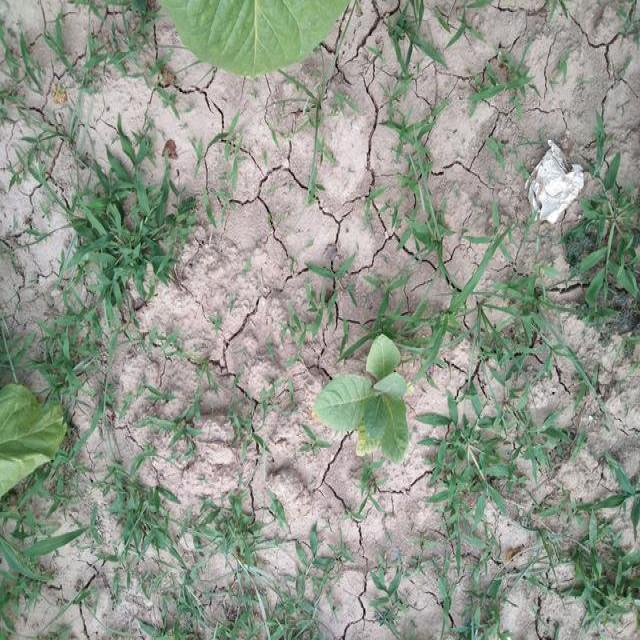crop: (160, 0, 355, 80), (321, 334, 419, 468), (0, 378, 63, 507)
